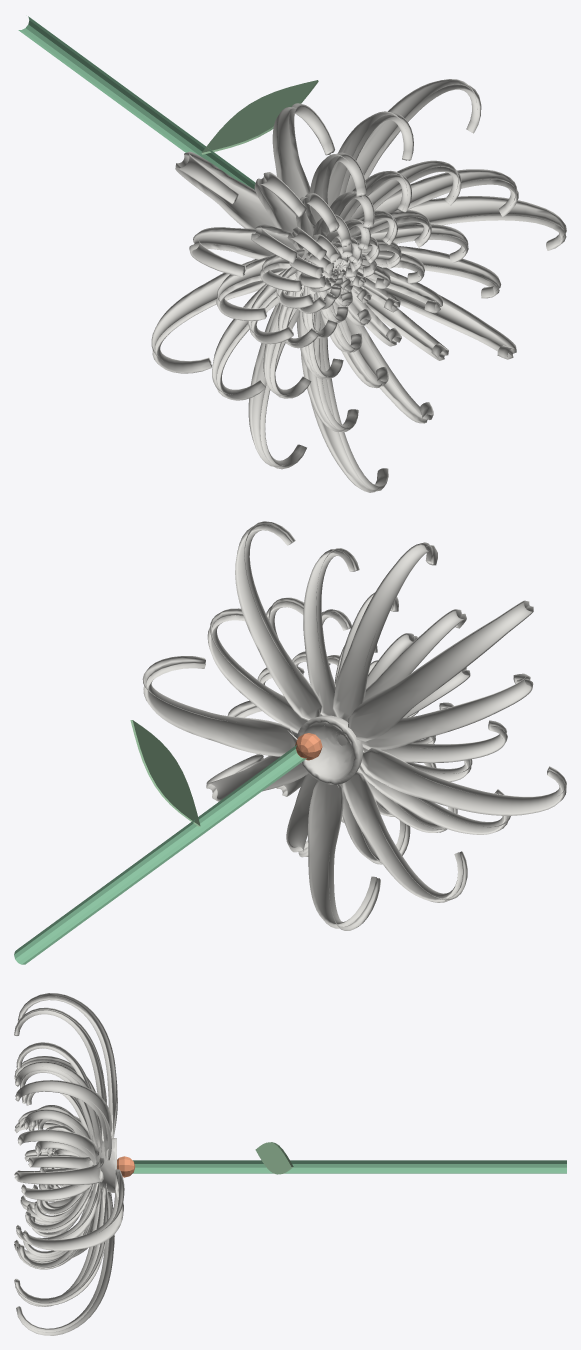
File: bloom-stem-leaf-bundle.glb
3 views of the same model, one above another, from view 1: azimuth 30°, elevation 25°; view 2: azimuth 150°, elevation 25°; view 3: azimuth 270°, elevation 25° (orthographic). The views are drawn at different scales.
Visible parts, largest first — view 1: bloom, stem, leaf; view 2: bloom, stem, leaf, pivot_marker; view 3: bloom, stem, leaf.
Part boxes in pixels (x1,y1,x2,y2): bloom: (151,79,566,492); stem: (18,16,255,189); leaf: (201,80,318,154); bloom: (142,521,566,930); stem: (14,745,306,964); leaf: (130,720,200,826); pivot_marker: (295,733,322,760); bloom: (14,993,124,1335); stem: (133,1160,566,1173); leaf: (255,1142,293,1174).
Bounding box in the file's own units: 92.14 × 85.86 × 142.
